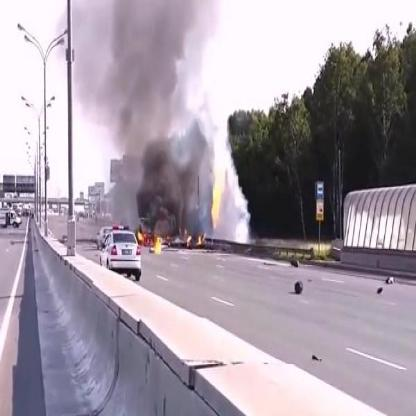fire: (138, 226, 168, 258), (210, 180, 223, 229), (184, 233, 209, 246)
